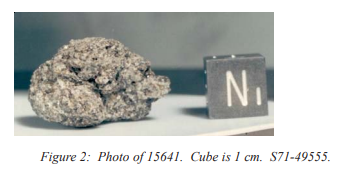Basalt: (30, 28, 170, 122)
